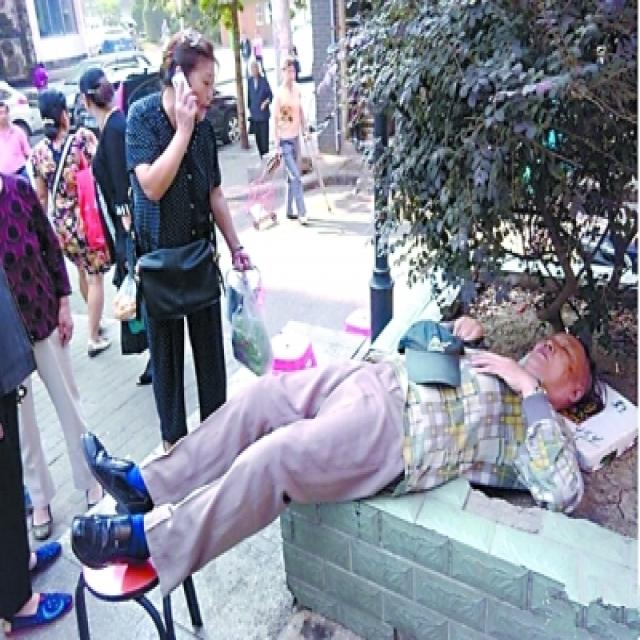10-: (0, 21, 603, 638)
down: (61, 306, 603, 604)
